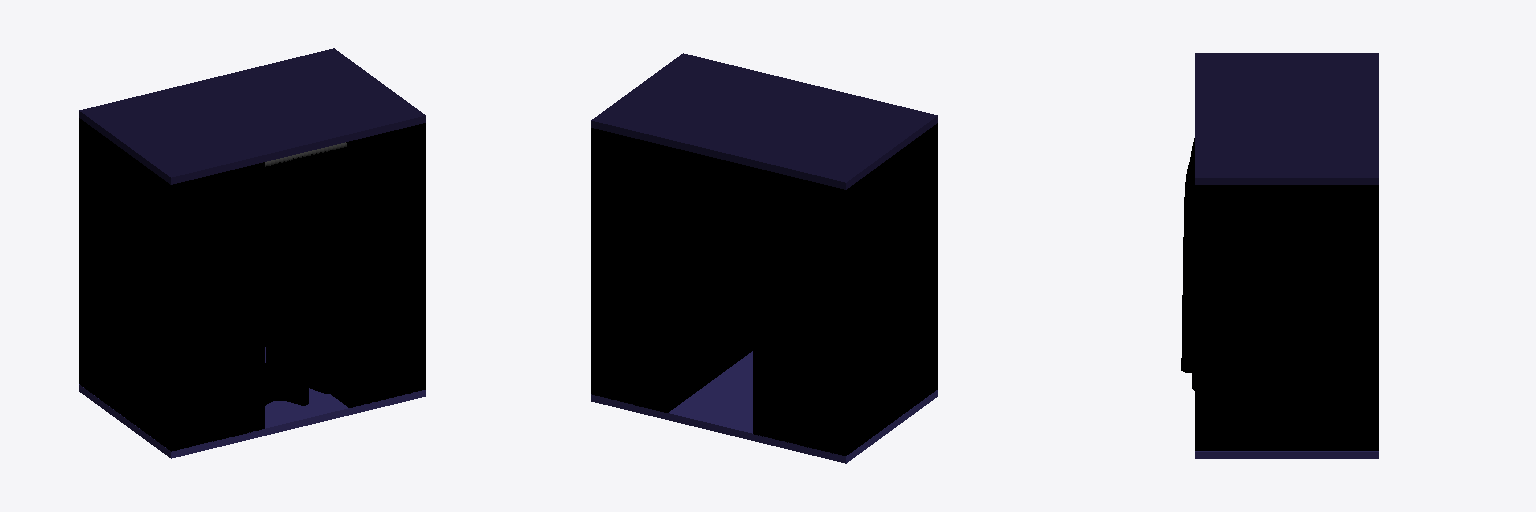
File: Booth.obj
The picture shows the model from 3 angles: view 1: azimuth 30°, elevation 25°; view 2: azimuth 150°, elevation 25°; view 3: azimuth 270°, elevation 25°; orthographic projection.
Parts seen in each view (by area): view 1: polySurface2, pCube2, polySurface1, pPlane3, pCube1; view 2: polySurface2, polySurface1, pCube2, pCube1; view 3: polySurface1, pCube2, pPlane3, pCube1.
Part boxes in pixels (left/top/right/bottom): polySurface2: left=79, top=118, right=264, bottom=451; pCube2: left=79, top=48, right=425, bottom=184; polySurface1: left=265, top=123, right=425, bottom=407; pPlane3: left=265, top=150, right=344, bottom=405; pCube1: left=79, top=347, right=425, bottom=458; polySurface2: left=753, top=123, right=937, bottom=455; polySurface1: left=591, top=128, right=752, bottom=412; pCube2: left=591, top=53, right=937, bottom=189; pCube1: left=591, top=351, right=937, bottom=463; polySurface1: left=1195, top=185, right=1378, bottom=450; pCube2: left=1195, top=53, right=1378, bottom=184; pPlane3: left=1181, top=138, right=1194, bottom=390; pCube1: left=1195, top=451, right=1378, bottom=458.
Size of the model in its own units: 8.01 by 8.43 by 5.37.